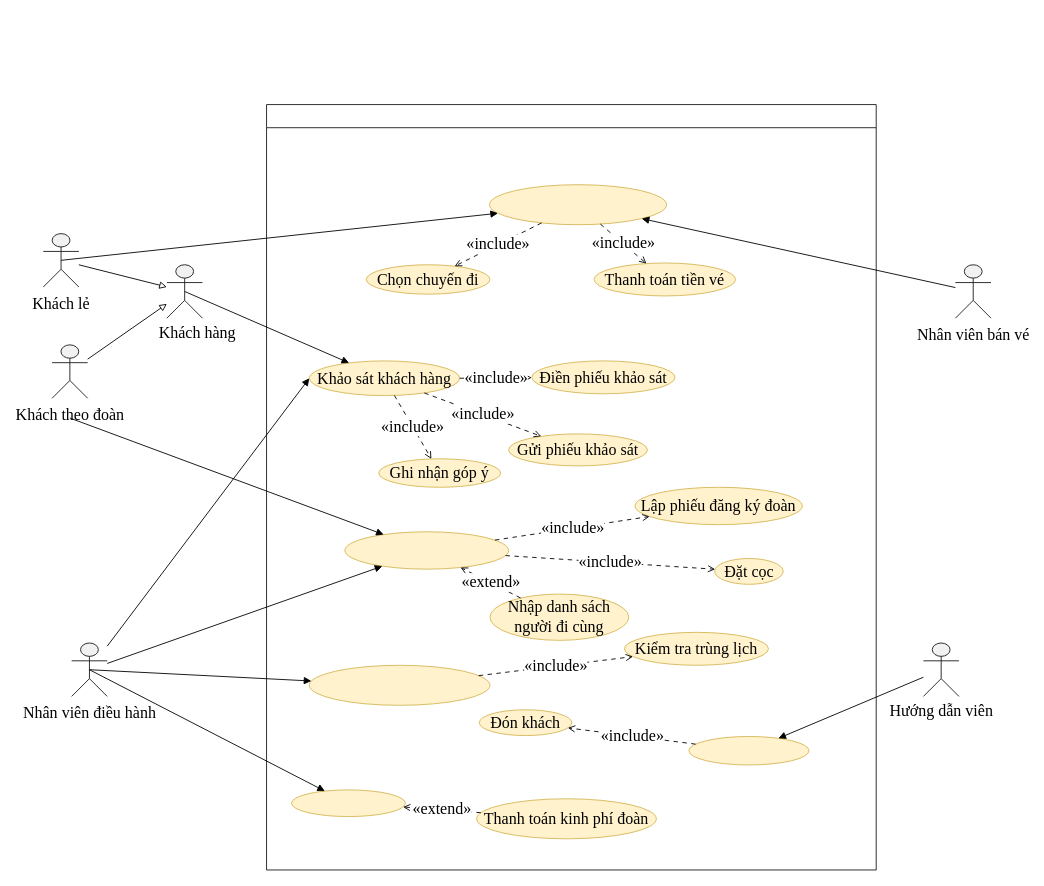
The diagram is 1044 pixels wide and 886 high, and some of its shapes have lost their labels. Each missing label, with the box of its shape:
Hoạt động từ đăng ký đến kết thúc tour: (266, 104, 876, 870)
Kết thúc tour: (291, 789, 405, 817)
Phân công hướng dẫn viên: (308, 664, 490, 705)
Thực hiện tour: (688, 736, 809, 765)
Đăng ký tour theo chuyến: (489, 184, 667, 225)
Đăng ký tour theo đoàn: (344, 531, 509, 569)
